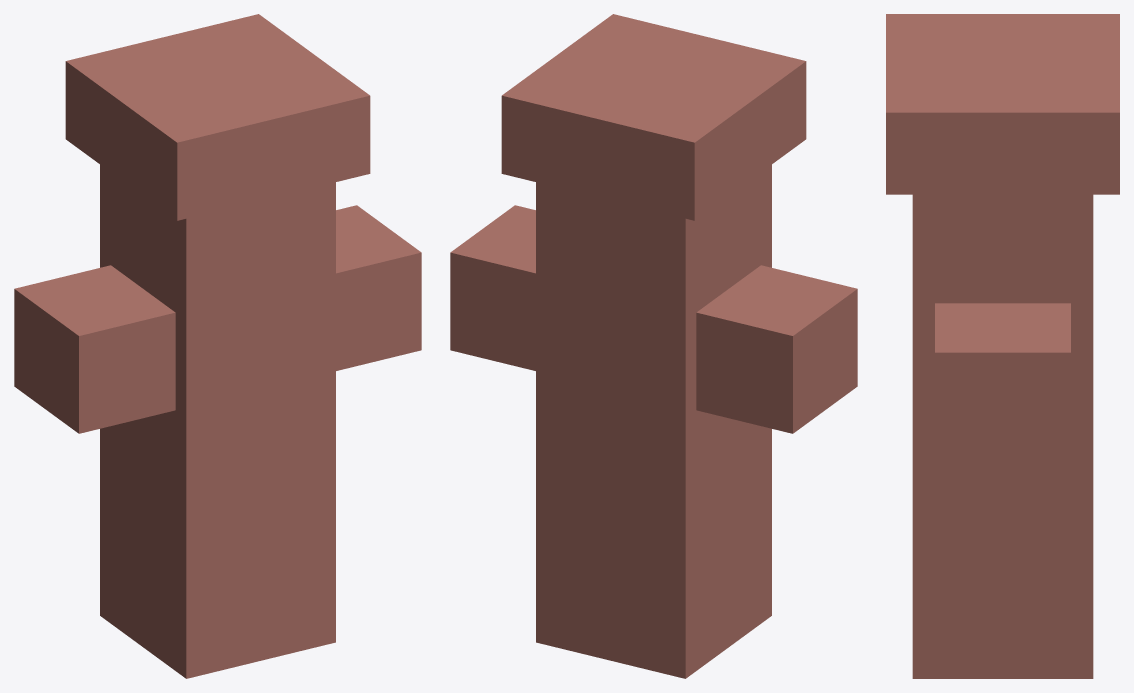
File: fire_hydrant.glb
The picture shows the model from 3 angles, left to right: view 1: azimuth 30°, elevation 25°; view 2: azimuth 150°, elevation 25°; view 3: azimuth 270°, elevation 25°; orthographic projection. The views are drawn at different scales.
Visible parts, largest first — view 1: body; view 2: body; view 3: body.
Boxes of the visible parts, x1,y1,x2,y2 form: body: (14, 14, 421, 678); body: (450, 14, 857, 678); body: (886, 14, 1119, 678).
Size of the model in its own units: 0.55 by 0.845 by 0.31.
